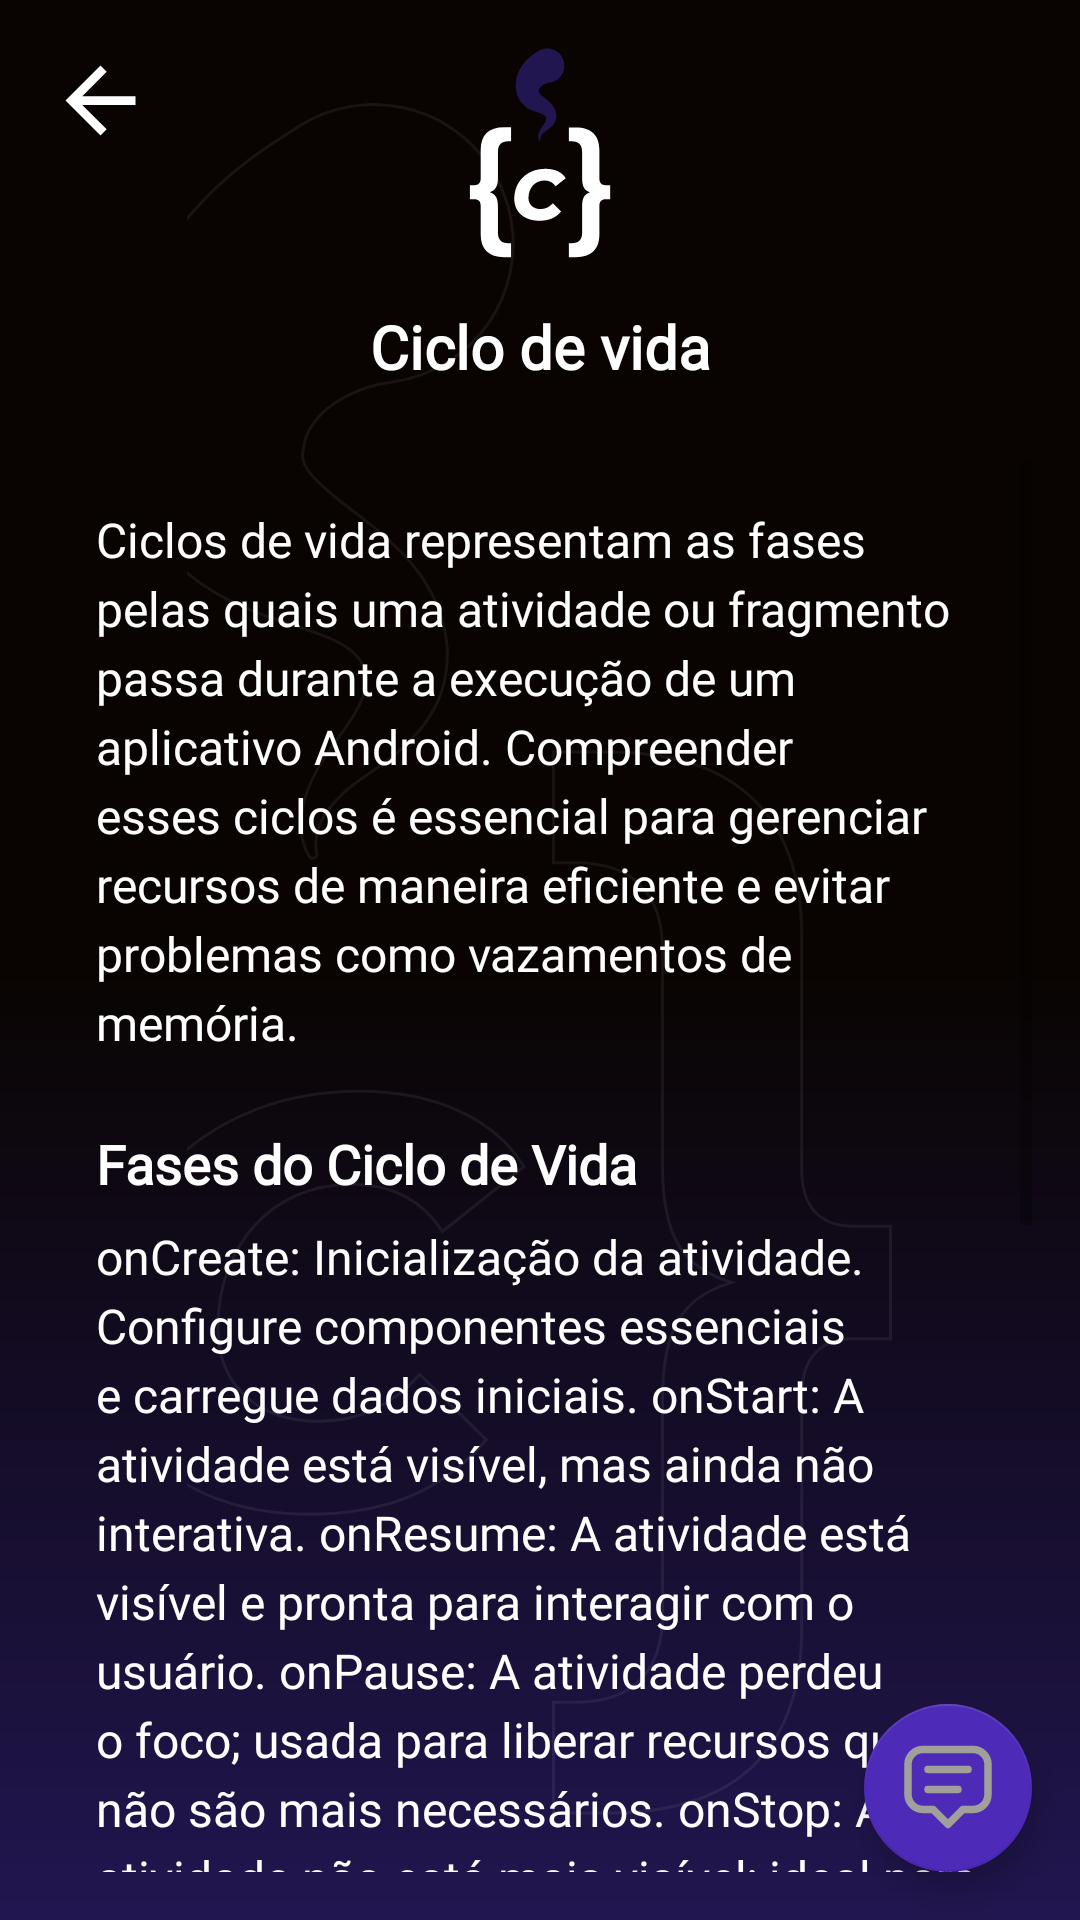

Screen size 1080px x 1920px. Icon name, then its center in pixels as (x=x, y=y):
Botão para abrir o chat de IA: (x=948, y=1788)
Voltar: (x=100, y=100)
